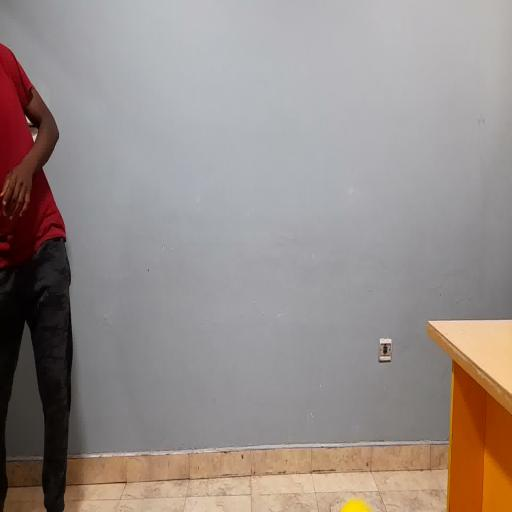plastic-ball: (336, 495, 374, 512)
